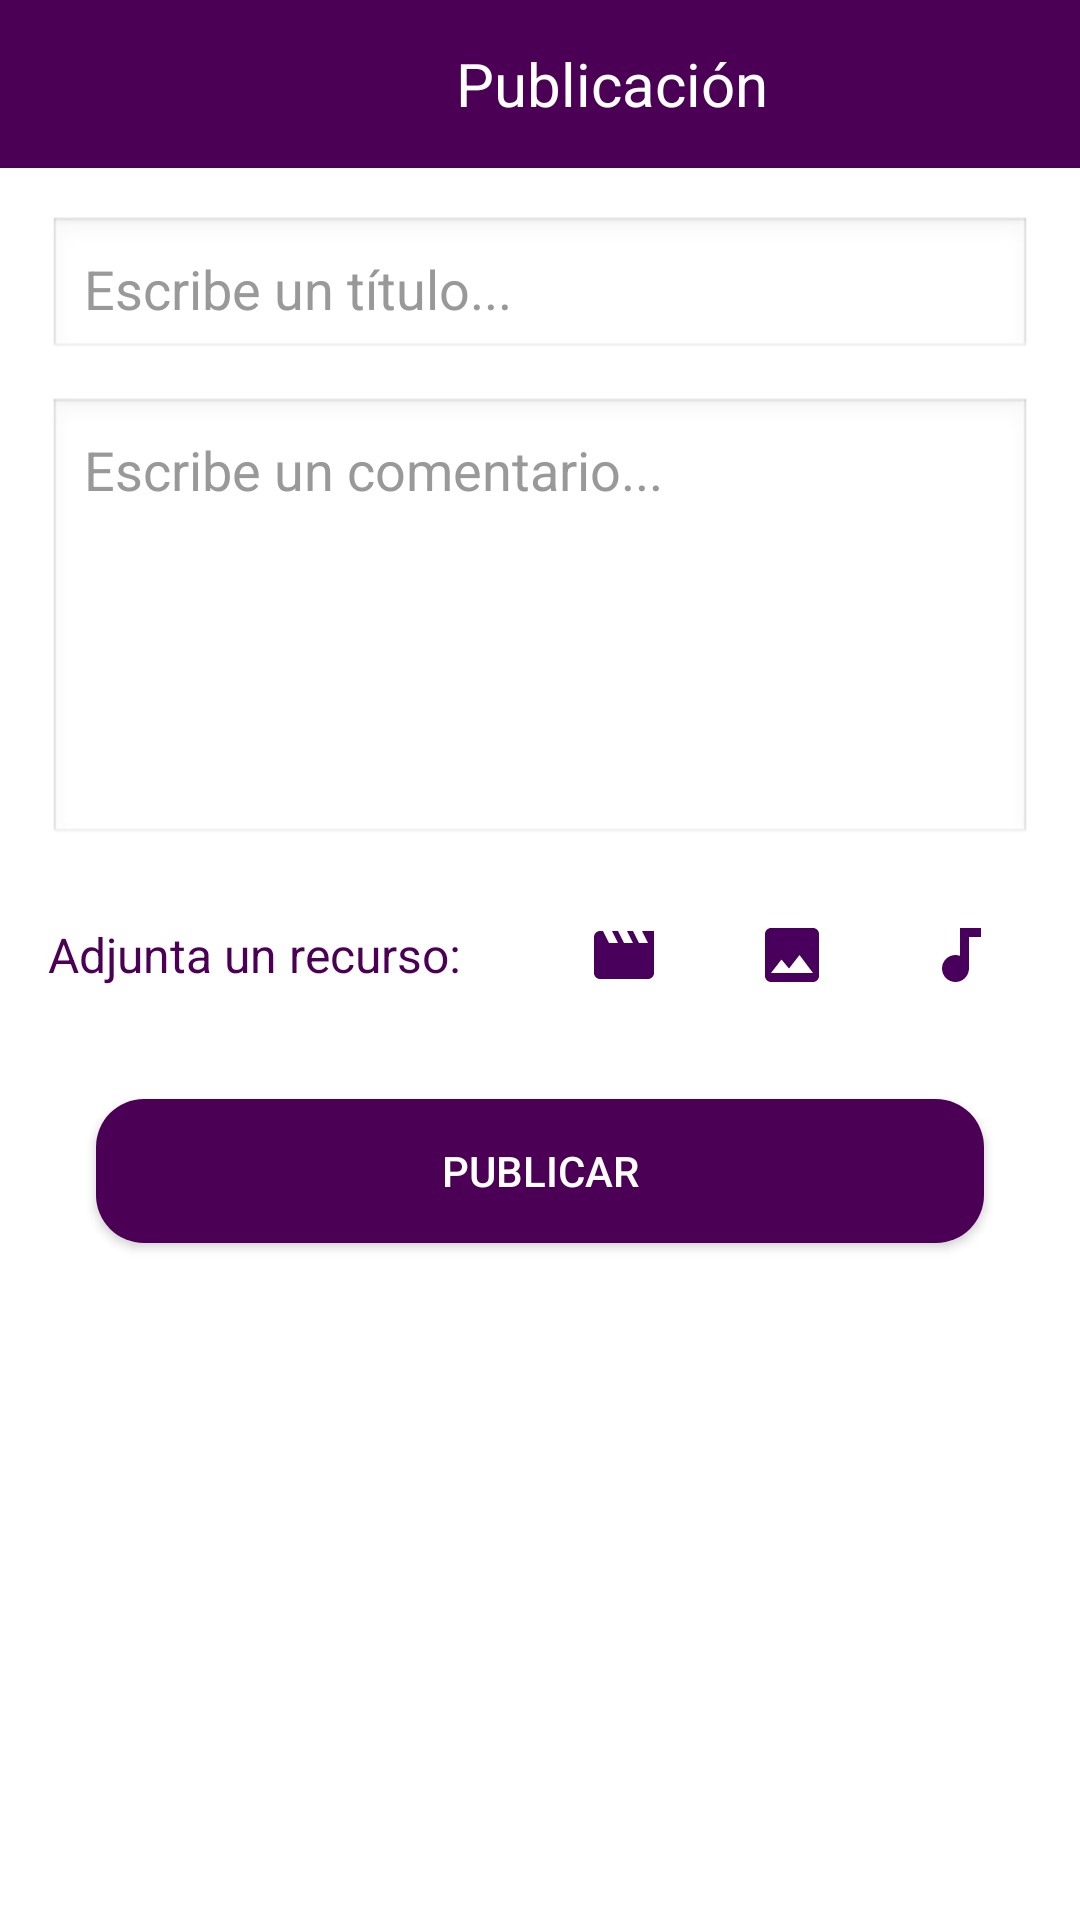

Locate icon controls on the screen. Image size 1080w x 1920h, boxes as {"x1": x1, "y1": y1, "x2": x2, "y2": y2}.
Adjuntar audio: {"x1": 942, "y1": 928, "x2": 981, "y2": 982}
Adjuntar video: {"x1": 594, "y1": 931, "x2": 654, "y2": 979}
